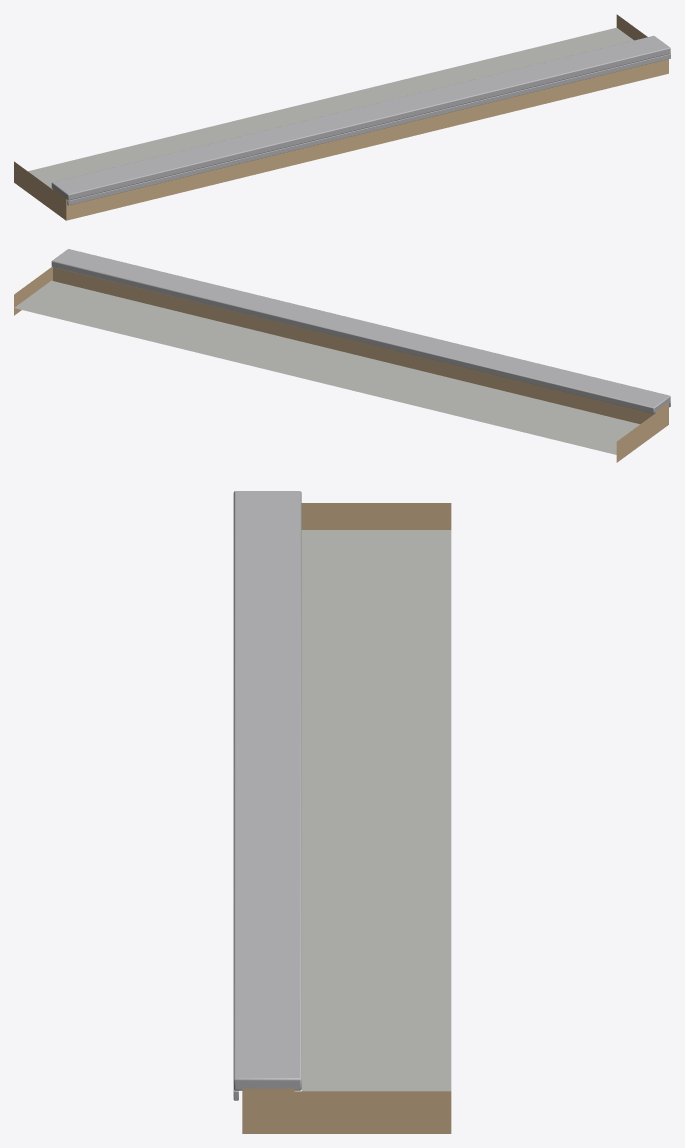
The model's file is cap_flat_8.glb.
The picture shows the model from 3 angles, top to bottom: view 1: azimuth 30°, elevation 25°; view 2: azimuth 150°, elevation 25°; view 3: azimuth 270°, elevation 25°; orthographic projection. The views are drawn at different scales.
Visible parts, largest first — view 1: cap_flat_8; view 2: cap_flat_8; view 3: cap_flat_8.
Part boxes in pixels (x1,y1,x2,y2): cap_flat_8: [14, 14, 670, 220]; cap_flat_8: [14, 249, 670, 462]; cap_flat_8: [233, 491, 451, 1133].
Bounding box in the file's own units: 8 × 0.35 × 1.25.
